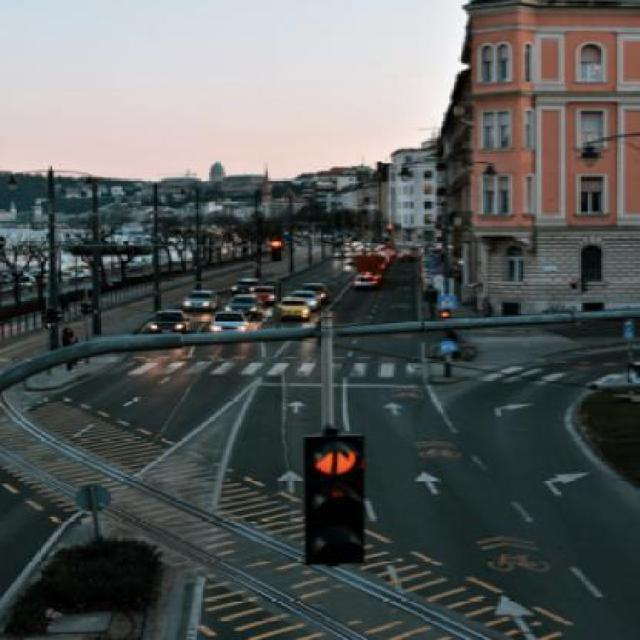Traffic_signal: (300, 431, 363, 563)
